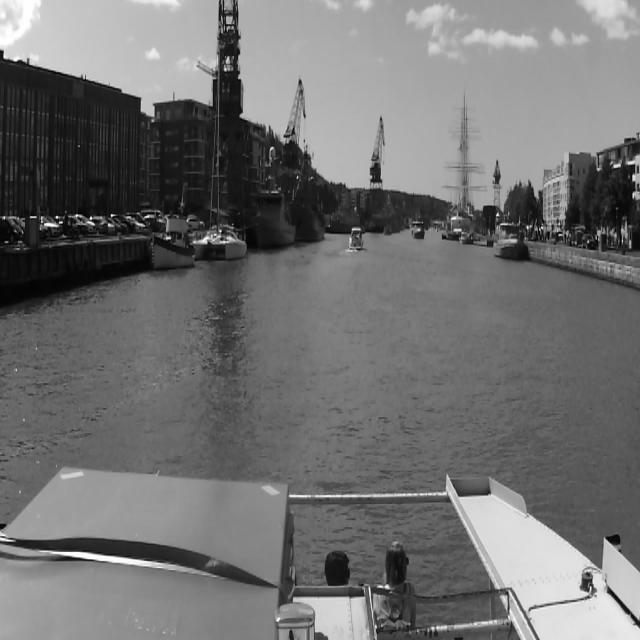ship: (195, 42, 249, 263), (436, 81, 490, 245), (252, 146, 295, 250), (144, 190, 194, 276), (294, 143, 326, 243), (368, 188, 406, 233), (493, 219, 523, 263), (328, 192, 360, 233), (348, 228, 364, 250), (411, 220, 426, 240)
